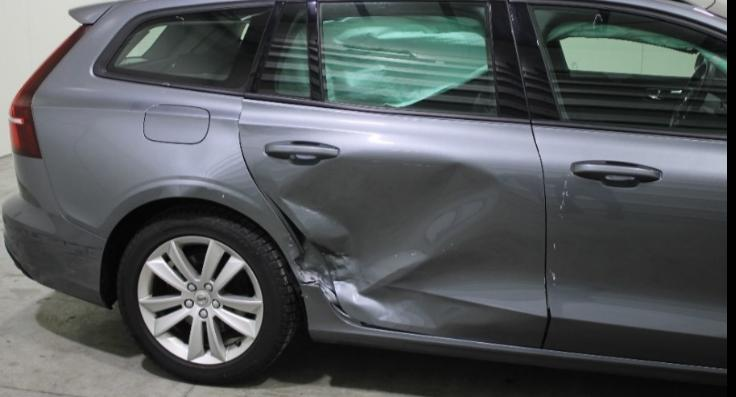Back-bumper: (2, 151, 110, 308)
Back-door: (239, 0, 548, 347)
Back-wheel: (117, 204, 299, 386)
Back-window: (249, 1, 511, 121), (98, 5, 275, 90)
Front-door: (509, 1, 731, 369)
Front-window: (527, 3, 726, 139)
Quarter-panel: (33, 70, 348, 329)
Rocker-panel: (310, 324, 726, 386)
Roof: (624, 0, 716, 18)
Tail-light: (10, 26, 91, 156)
Trunk: (73, 2, 110, 25)
Windshield: (708, 1, 729, 18)
